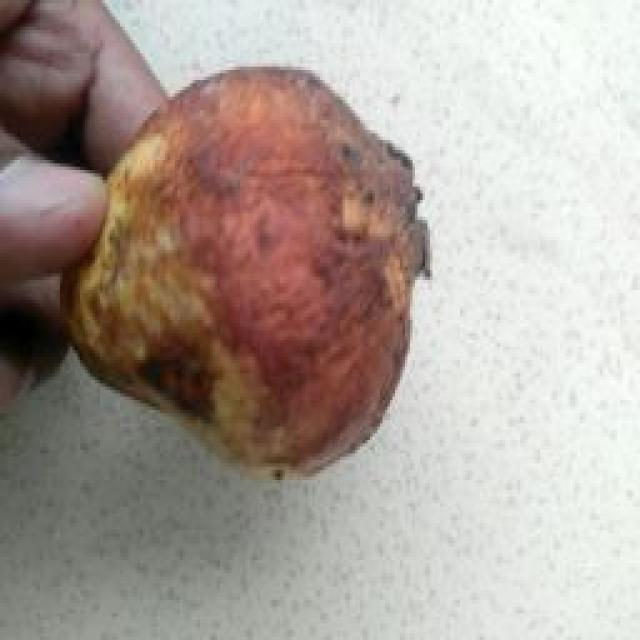Bad_Guava: (62, 68, 429, 474)
